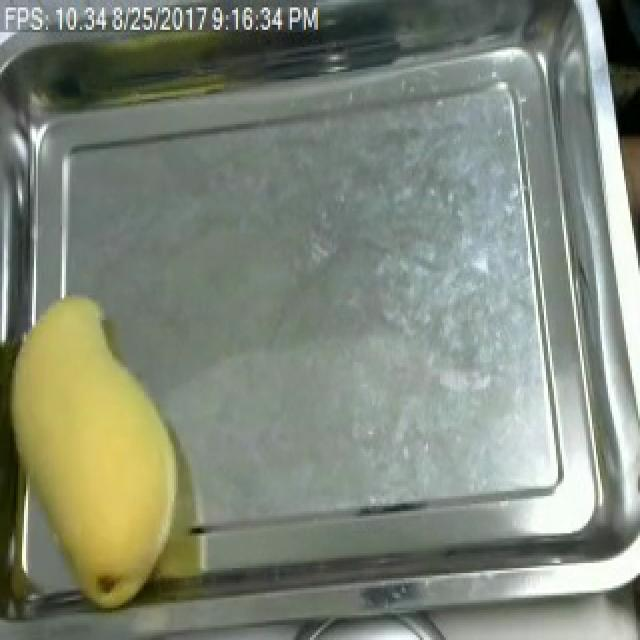fruit: (0, 283, 214, 625)
